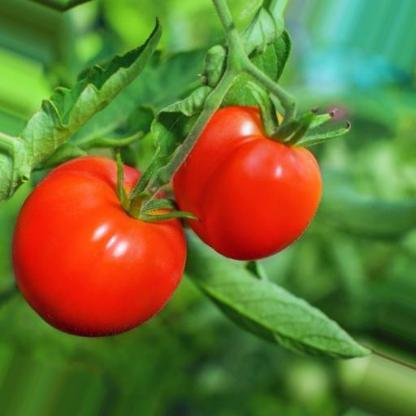tomato: (4, 142, 190, 358), (172, 100, 324, 270)
